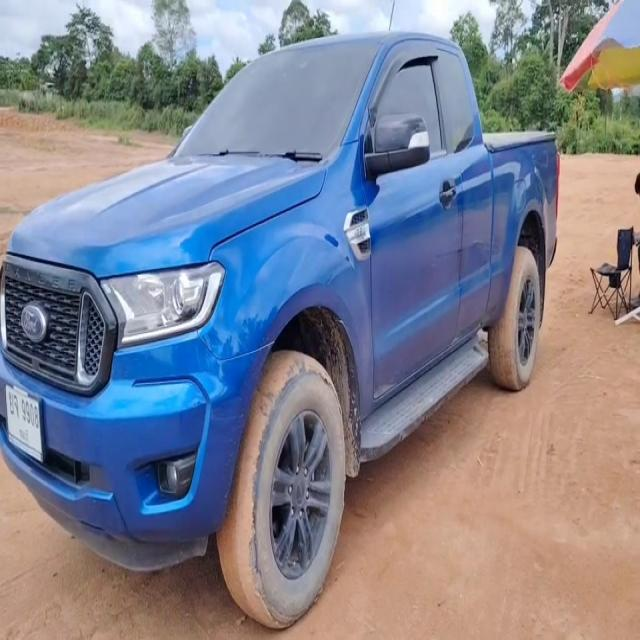Digit: (21, 398, 40, 431)
Licenseplate: (5, 382, 44, 464)
Provincename: (19, 424, 30, 446)
Thaichar: (9, 391, 20, 420)
